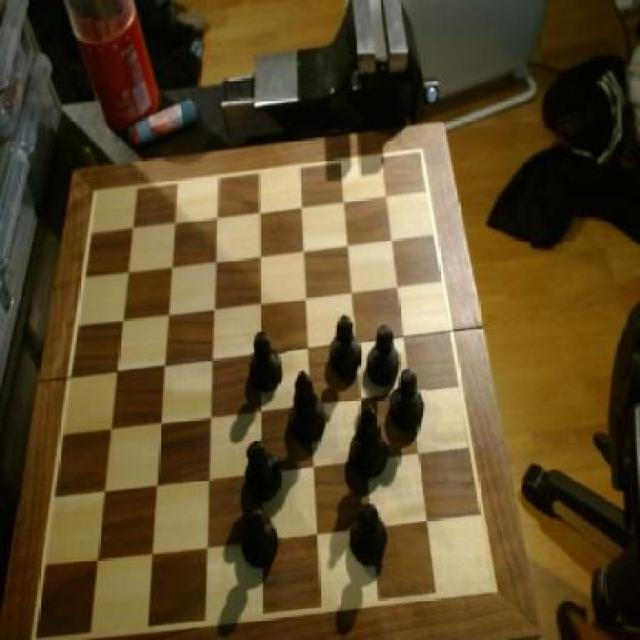bishop: (351, 401, 391, 487), (288, 368, 328, 448)
black-knight: (241, 438, 284, 512), (242, 501, 282, 574), (249, 330, 287, 396), (388, 368, 424, 437), (348, 504, 388, 564), (369, 323, 400, 390), (329, 316, 361, 374)
